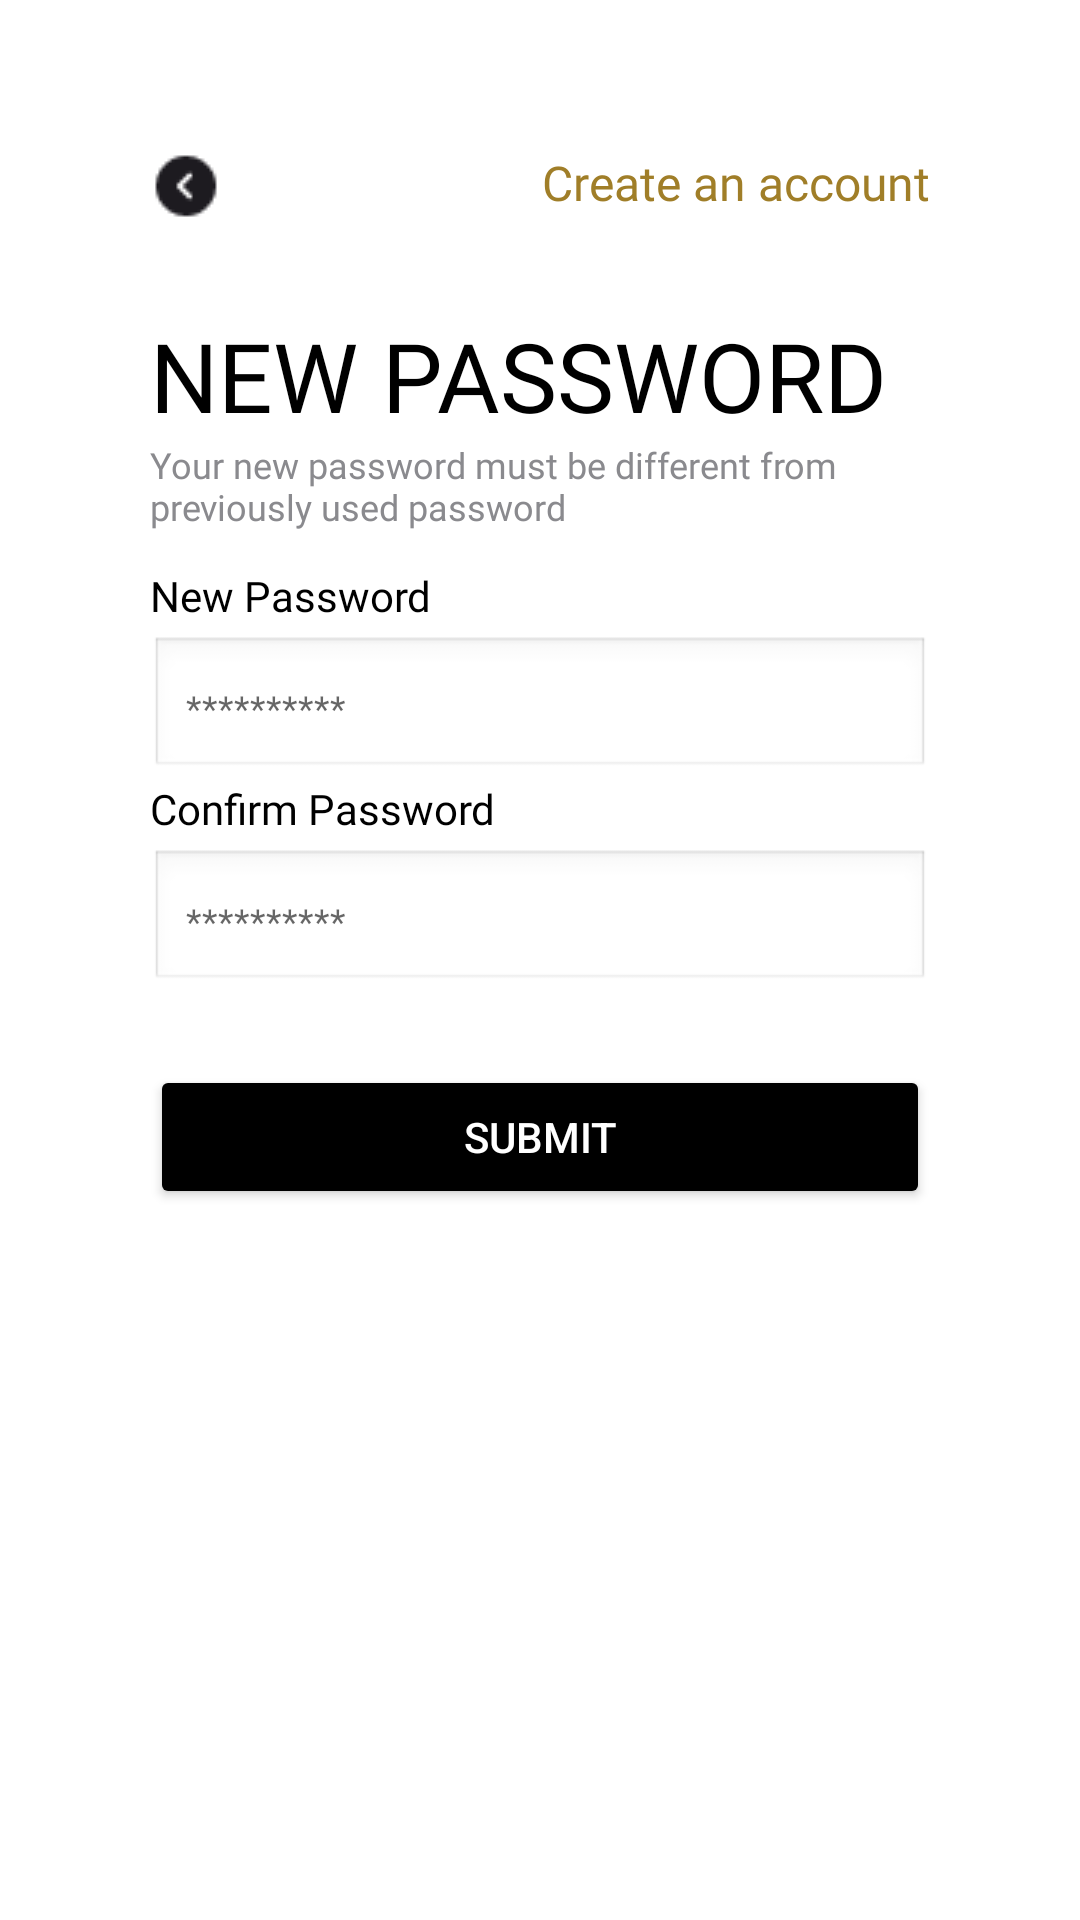

Screen size 1080px×1920px. Icon name, then its center in pixels as (x=x, y=y):
Back: (x=186, y=186)
